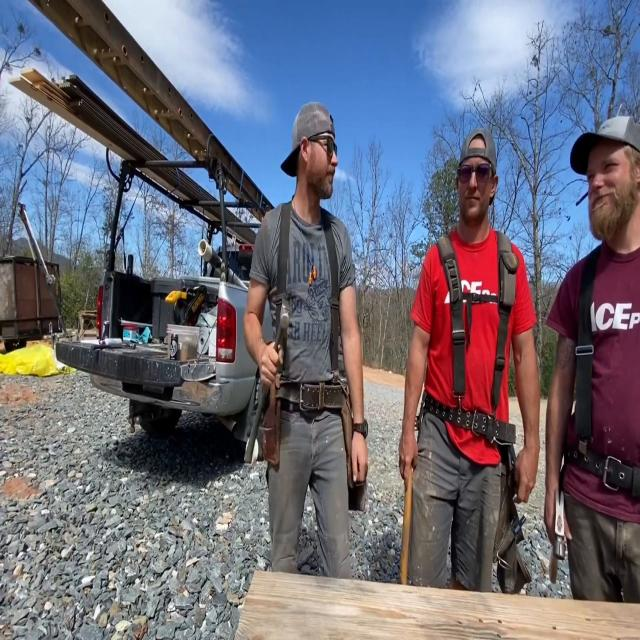hammer: (245, 295, 292, 465), (548, 490, 565, 581)
